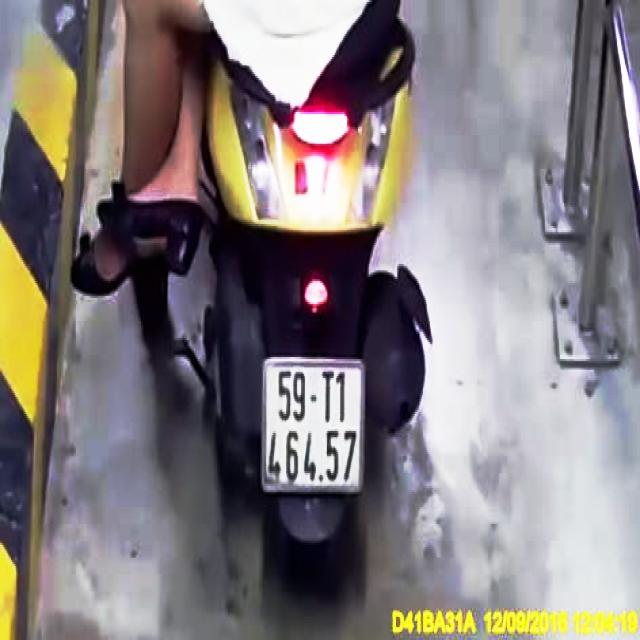license_plate: (265, 360, 368, 495)
